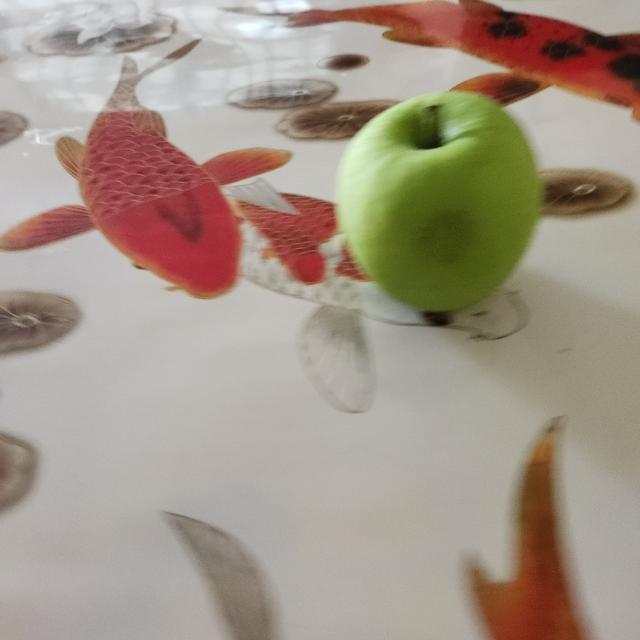apple: (330, 83, 550, 323)
